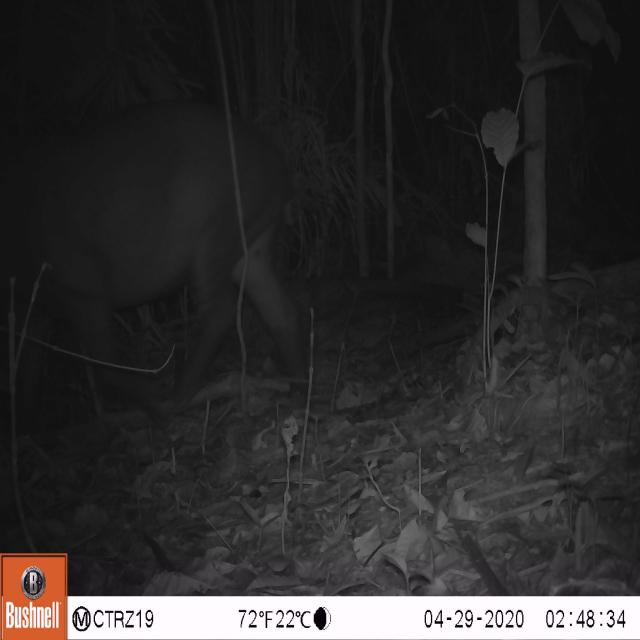Lowland Tapir: (0, 102, 316, 417)
